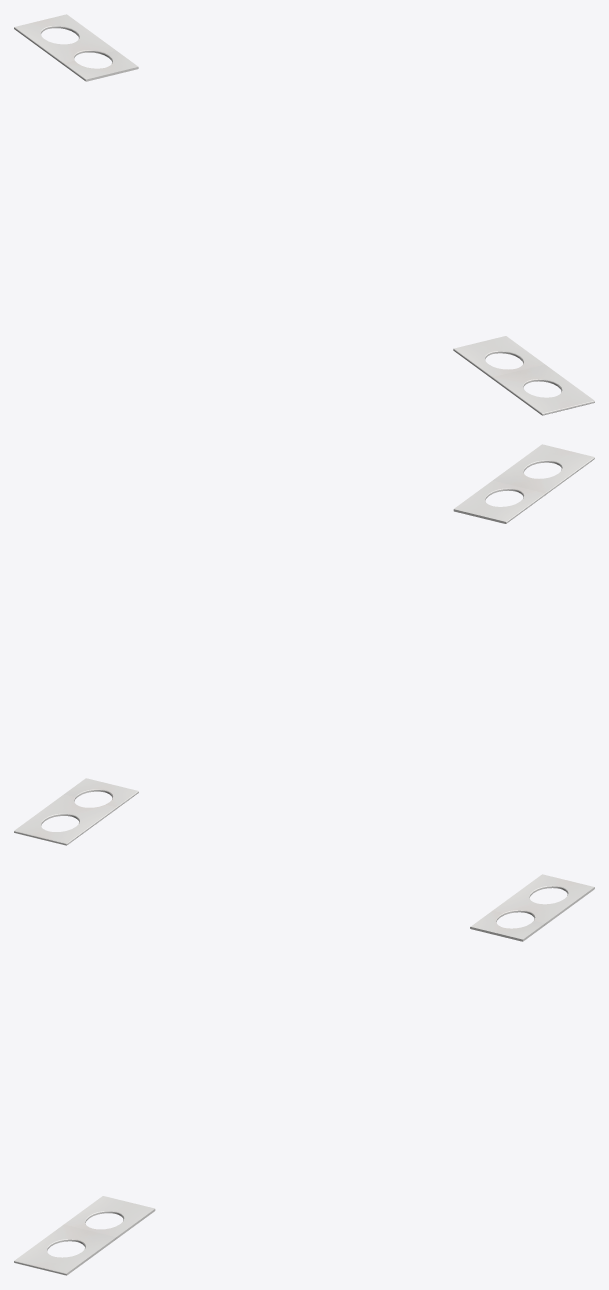
Rendered from Countertops_QuartzArcticWhite_.glb.
3 views of the same model, one above another, from view 1: azimuth 30°, elevation 25°; view 2: azimuth 150°, elevation 25°; view 3: azimuth 330°, elevation 25° (orthographic).
Visible parts, largest first — view 1: Countertops_Quartz Arctic White_; view 2: Countertops_Quartz Arctic White_; view 3: Countertops_Quartz Arctic White_.
Part boxes in pixels (left/top/right/bottom): Countertops_Quartz Arctic White_: left=14, top=14, right=594, bottom=415; Countertops_Quartz Arctic White_: left=14, top=444, right=594, bottom=845; Countertops_Quartz Arctic White_: left=14, top=874, right=594, bottom=1275.
Size of the model in its own units: 0.9958 by 0.04 by 17.25.
1 material, 1 textured.
